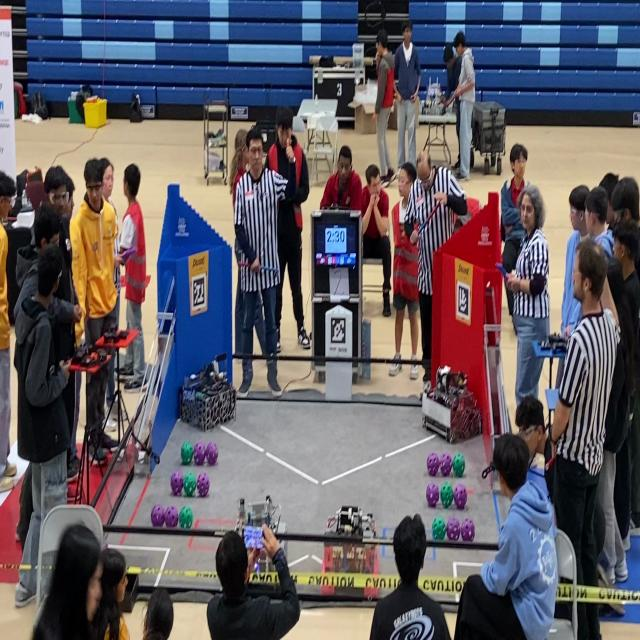artifact_green: (432, 517, 446, 540), (441, 482, 453, 508), (183, 473, 196, 497), (452, 453, 465, 477), (179, 506, 193, 528), (181, 442, 193, 464)
artifact_purple: (170, 471, 184, 496), (427, 452, 440, 477), (454, 484, 467, 509), (197, 472, 210, 497), (426, 483, 439, 507), (461, 519, 475, 541), (447, 518, 460, 541), (440, 453, 452, 476), (193, 442, 205, 465), (151, 505, 164, 526), (165, 506, 178, 527), (207, 443, 218, 465), (205, 442, 215, 458)
